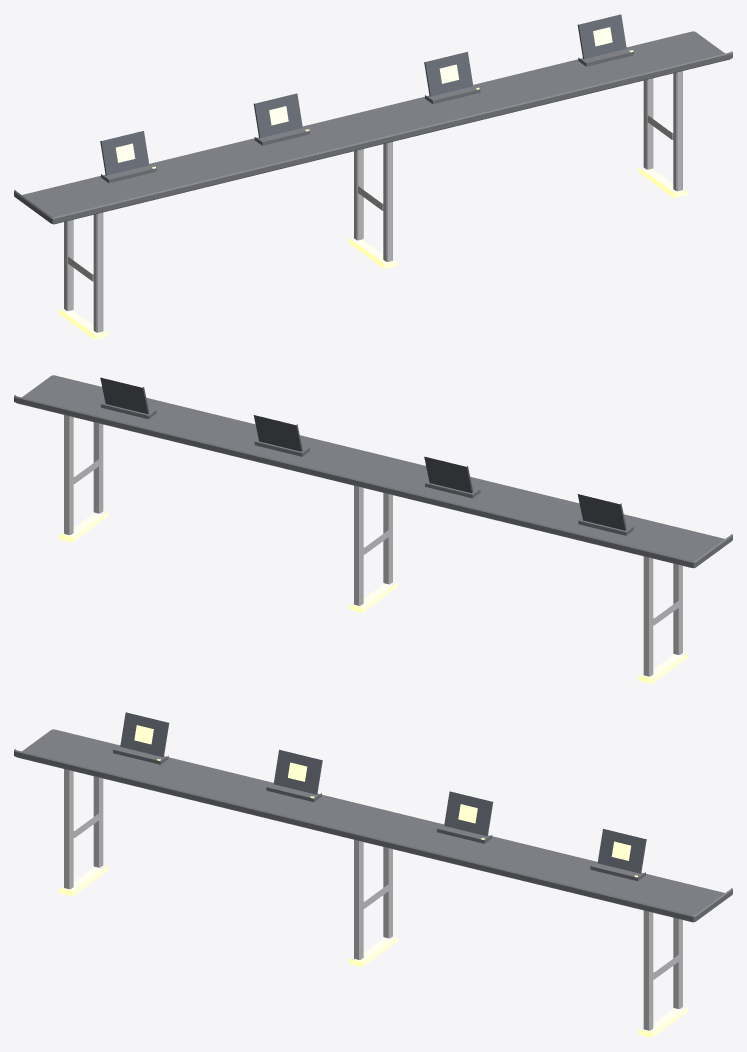
The model's file is iter_02.glb.
The picture shows the model from 3 angles, top to bottom: view 1: azimuth 30°, elevation 25°; view 2: azimuth 150°, elevation 25°; view 3: azimuth 330°, elevation 25°; orthographic projection.
Visible parts, largest first — view 1: Desk_Top, Trestles, Data_Slates, Slate_Cradles, Foot_Latches, Slate_Glyphs; view 2: Desk_Top, Trestles, Data_Slates, Foot_Latches, Slate_Cradles; view 3: Desk_Top, Trestles, Data_Slates, Slate_Cradles, Foot_Latches, Slate_Glyphs.
Boxes of the visible parts, x1,y1,x2,y2 form: Desk_Top: (14,31,732,224); Trestles: (64,71,682,332); Data_Slates: (100,14,626,175); Slate_Cradles: (101,49,633,183); Foot_Latches: (59,167,687,339); Slate_Glyphs: (115,27,612,162); Desk_Top: (14,375,732,568); Trestles: (64,415,682,676); Data_Slates: (100,377,626,530); Foot_Latches: (59,511,687,683); Slate_Cradles: (101,404,633,535); Desk_Top: (14,729,732,922); Trestles: (64,769,682,1030); Data_Slates: (120,712,646,873); Slate_Cradles: (113,747,645,881); Foot_Latches: (59,865,687,1037); Slate_Glyphs: (134,725,631,860).
Size of the model in its own units: 4 by 0.9412 by 0.4.
